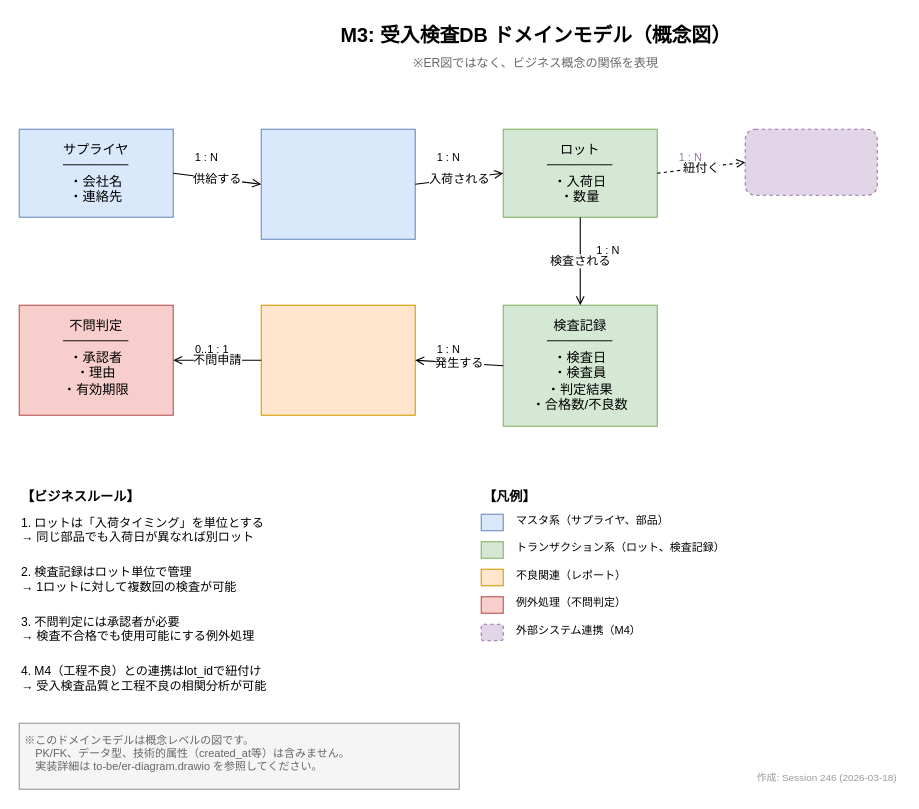
This 919x809 diagram has some shape labels left out. Each missing label, with the centre of its shape:
【M4連携】 工程不良記録: [810,161]
不良レポート ─────── ・不良内容 ・数量 ・対応状況: [337,359]
部品 ─────── ・品名 ・品番 ・カテゴリ: [337,183]
